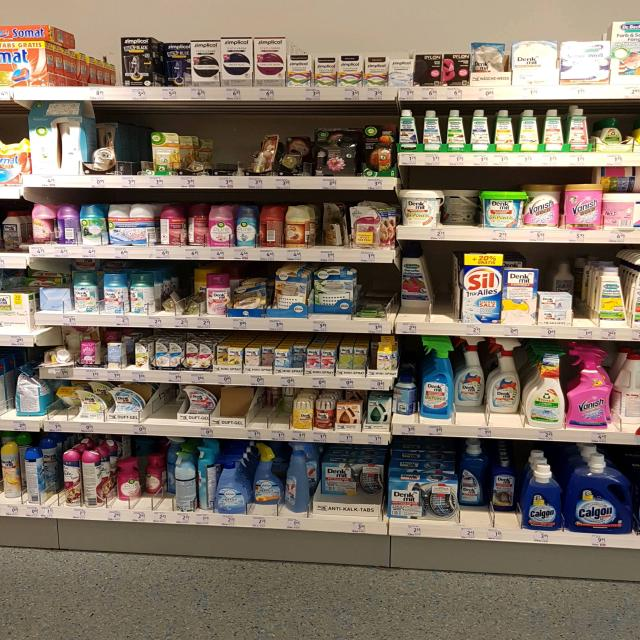empty: (49, 17, 127, 99), (426, 243, 461, 331), (115, 115, 159, 181), (202, 116, 242, 177)
